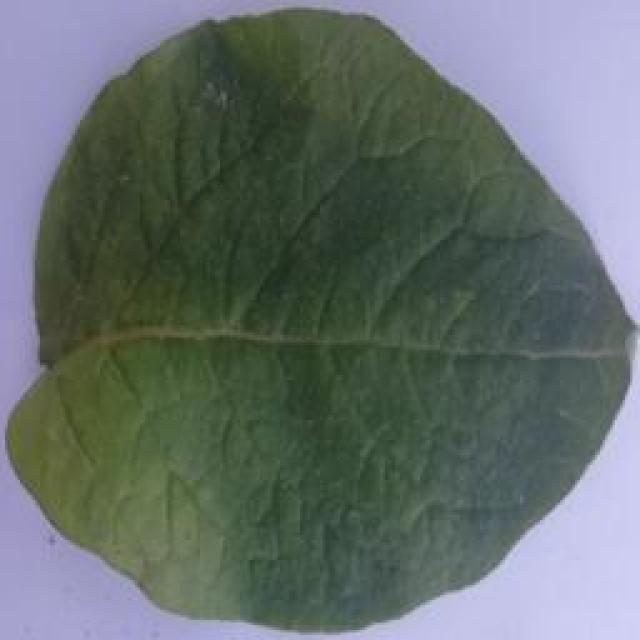Potato_Healthy: (10, 9, 627, 632)
